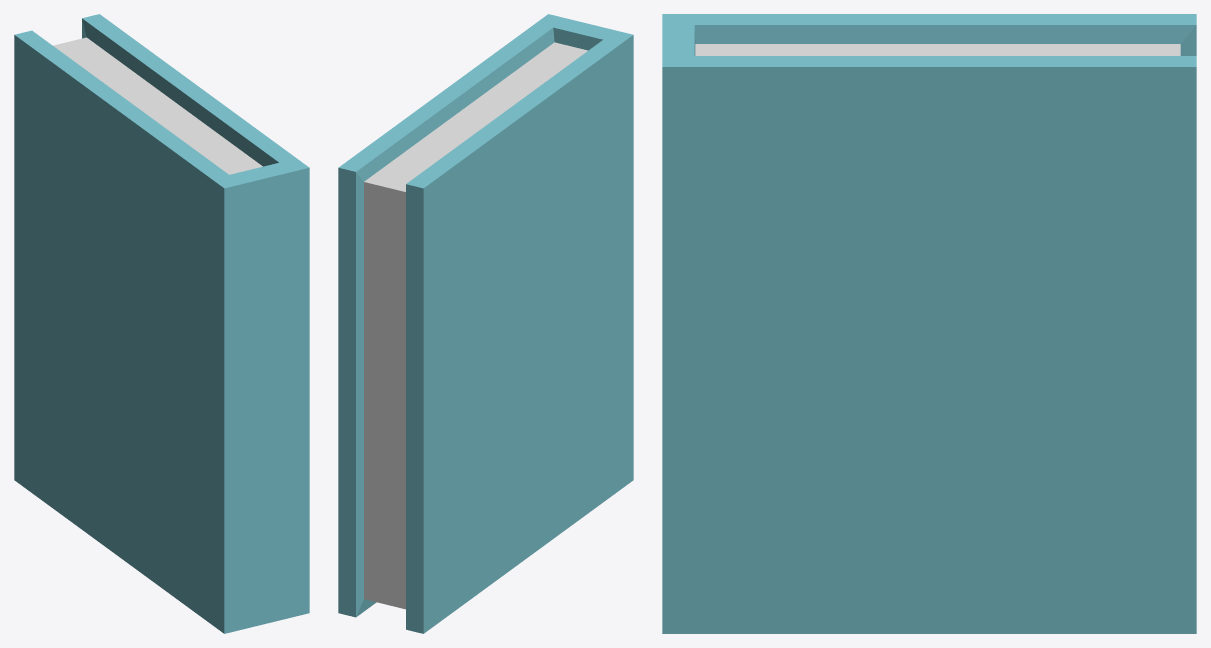
The model's file is bookblue.fbx.
The picture shows the model from 3 angles, left to right: view 1: azimuth 30°, elevation 25°; view 2: azimuth 150°, elevation 25°; view 3: azimuth 270°, elevation 25°; orthographic projection. The views are drawn at different scales.
Parts seen in each view (by area): view 1: Book_03; view 2: Book_03; view 3: Book_03.
Part boxes in pixels (x1,y1,x2,y2): Book_03: (14, 14, 309, 633); Book_03: (338, 14, 633, 633); Book_03: (662, 14, 1196, 633).
Size of the model in its own units: 9.58 by 47.91 by 40.92.
